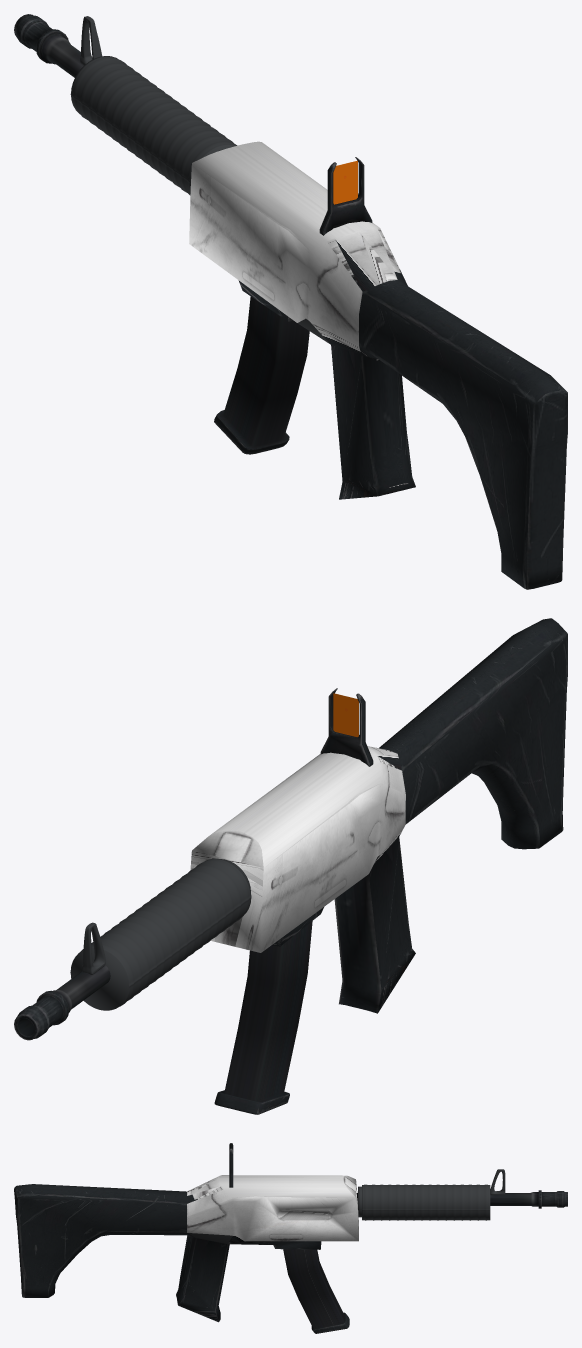
File: Rifle2.fbx
3 renders of one model, top to bottom at view 1: azimuth 30°, elevation 25°; view 2: azimuth 150°, elevation 25°; view 3: azimuth 270°, elevation 25°, orthographic. The views are drawn at different scales.
Visible parts, largest first — view 1: Cylinder.001, Scope; view 2: Cylinder.001, Scope; view 3: Cylinder.001.
Part boxes in pixels (left/top/right/bottom): Cylinder.001: left=14, top=14, right=567, bottom=589; Scope: left=333, top=160, right=357, bottom=204; Cylinder.001: left=14, top=618, right=567, bottom=1114; Scope: left=333, top=693, right=358, bottom=737; Cylinder.001: left=14, top=1143, right=567, bottom=1333.
Size of the model in its own units: 250 by 1161 by 3182.
